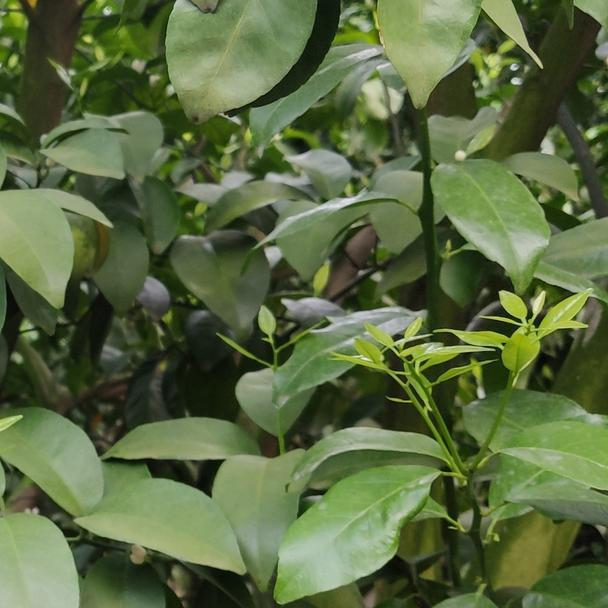shoot: (469, 286, 596, 405), (361, 320, 471, 442), (224, 307, 327, 386)
